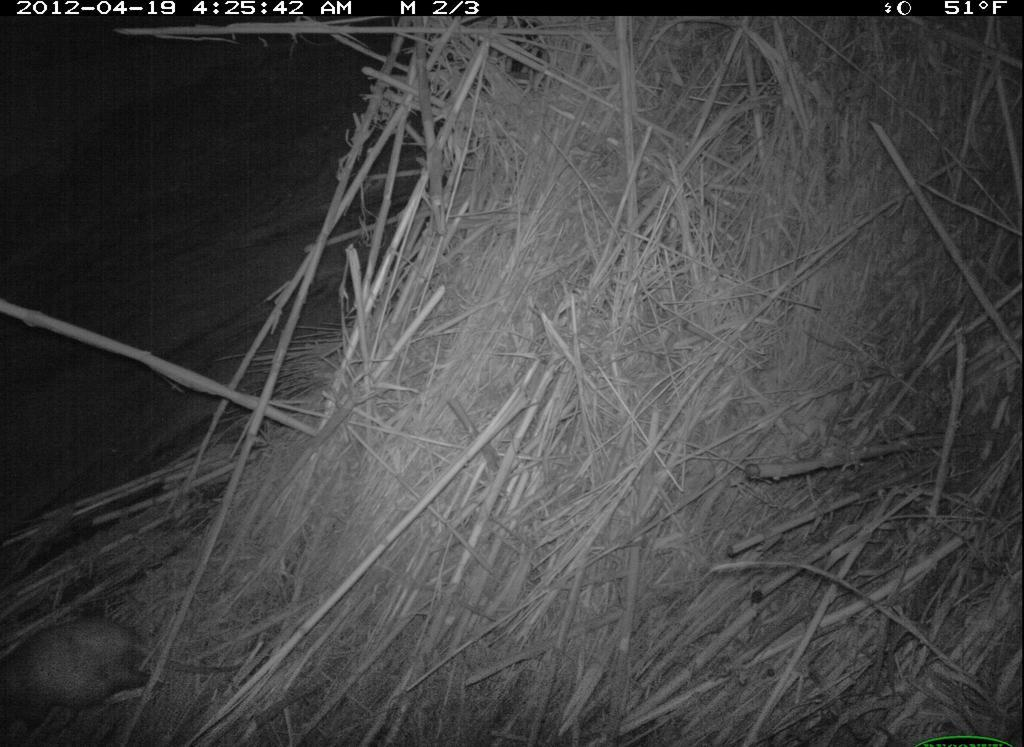opossum: (1, 585, 245, 734)
